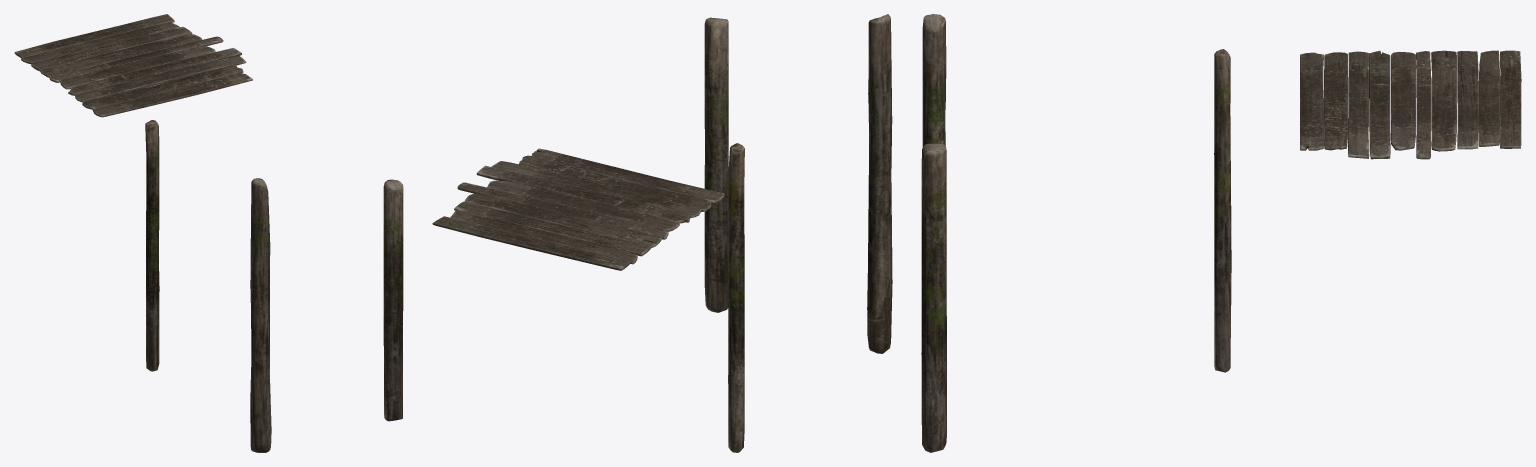
File: timber-parts.glb
3 renders of one model, left to right at view 1: azimuth 30°, elevation 25°; view 2: azimuth 150°, elevation 25°; view 3: azimuth 270°, elevation 25°, orthographic. The views are drawn at different scales.
Parts seen in each view (by area): view 1: modular_wooden_pier_planks, modular_wooden_pier_poles; view 2: modular_wooden_pier_planks, modular_wooden_pier_poles; view 3: modular_wooden_pier_planks, modular_wooden_pier_poles.
Boxes of the visible parts, x1,y1,x2,y2 form: modular_wooden_pier_planks: (14,14,252,117); modular_wooden_pier_poles: (145,120,403,452); modular_wooden_pier_planks: (432,148,724,270); modular_wooden_pier_poles: (704,14,892,452); modular_wooden_pier_planks: (1300,50,1521,159); modular_wooden_pier_poles: (921,14,1231,452).
Bounding box in the file's own units: 2.52 × 3.85 × 5.96.
2 materials, 2 textured.
